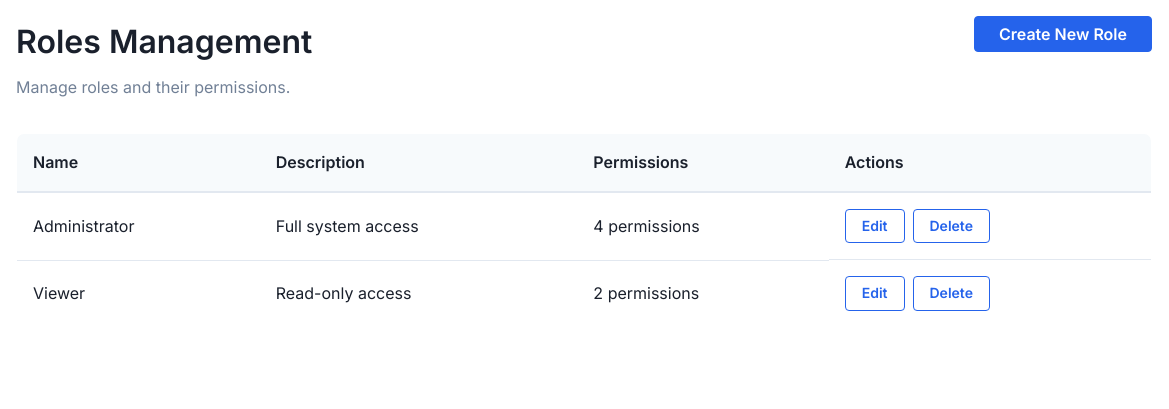
RolesManagementBlock › Edit Role › shows error when role loading fails
The width and height of the screenshot is (1169, 409).
What coordinates should you click on to do the following:
click the button "Edit" in the row of "Administrator"
I would click on:
 (875, 226)
Its box is [845, 209, 904, 244].
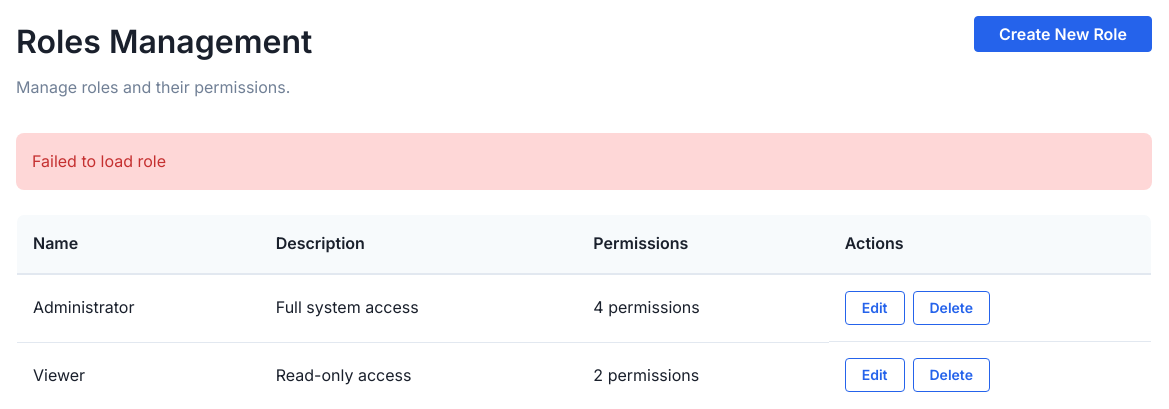
Expected: the message reads "Failed to load role", [32, 151, 166, 171]
